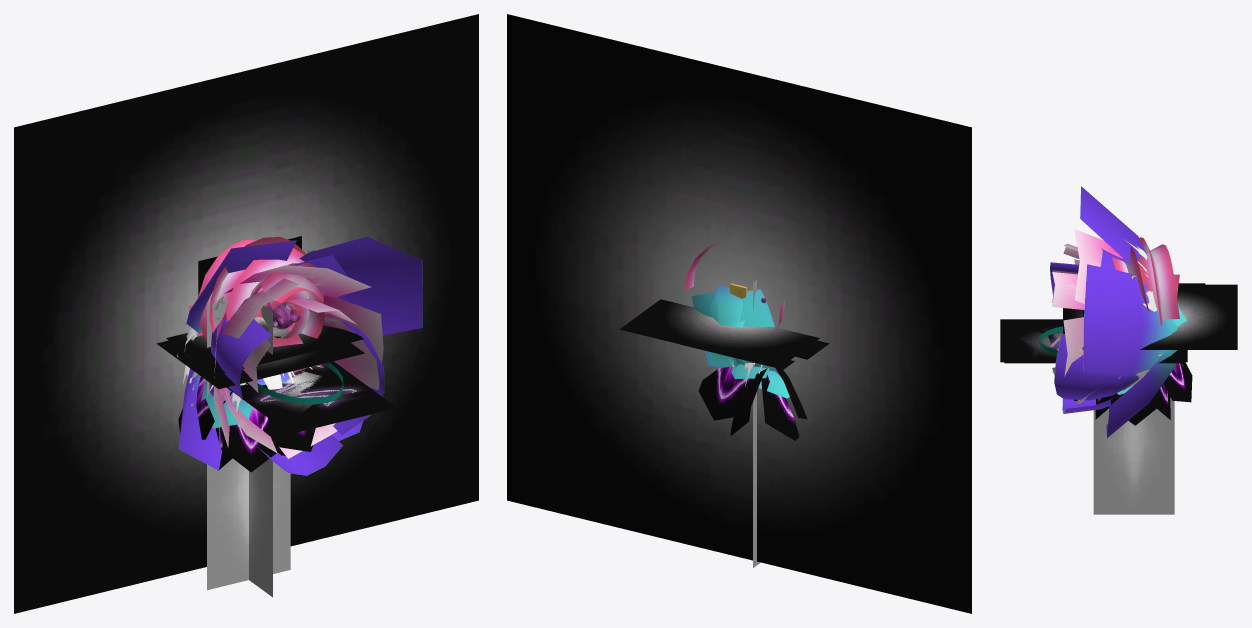
3 views of the same model, side by side, from view 1: azimuth 30°, elevation 25°; view 2: azimuth 150°, elevation 25°; view 3: azimuth 270°, elevation 25° (orthographic). The views are drawn at different scales.
Visible parts, largest first — view 1: object0123_001, "object0134_Editable Poly", object0220_Plane352, object0268_03, object0178_Plane03, "object0230_Editable Poly@#3", object0255_007, object0201_Plane@#1, object0195_Plane@#0, object0189_Plane, object0213_Plane350, "object0291_Editable Poly" (+1 smaller); view 2: object0123_001, object0201_Plane@#1, object0255_007, "object0134_Editable Poly", object0213_Plane350, object0220_Plane352; view 3: "object0134_Editable Poly", object0220_Plane352, object0201_Plane@#1, object0268_03, object0178_Plane03, object0189_Plane, object0255_007, "object0230_Editable Poly@#3", object0275_04.
Part boxes in pixels (box(x1,y1,x2,y2)): object0123_001: box(14, 14, 478, 613); "object0134_Editable Poly": box(178, 236, 422, 475); object0220_Plane352: box(207, 299, 290, 597); object0268_03: box(213, 265, 383, 458); object0178_Plane03: box(189, 237, 324, 373); "object0230_Editable Poly@#3": box(227, 362, 394, 433); object0255_007: box(178, 336, 315, 472); object0201_Plane@#1: box(166, 325, 363, 375); object0195_Plane@#0: box(156, 340, 364, 388); object0189_Plane: box(254, 361, 394, 427); object0213_Plane350: box(200, 372, 291, 428); "object0291_Editable Poly": box(257, 362, 343, 404); object0123_001: box(507, 14, 971, 613); object0201_Plane@#1: box(619, 299, 819, 368); object0255_007: box(698, 366, 807, 440); "object0134_Editable Poly": box(691, 284, 776, 370); object0213_Plane350: box(731, 364, 789, 398); object0220_Plane352: box(753, 280, 760, 567); "object0134_Editable Poly": box(1050, 186, 1186, 437); object0220_Plane352: box(1093, 274, 1174, 514); object0201_Plane@#1: box(1082, 284, 1237, 349); object0268_03: box(1052, 229, 1122, 403); object0178_Plane03: box(1101, 237, 1179, 325); object0189_Plane: box(1004, 321, 1183, 363); object0255_007: box(1074, 362, 1192, 425); "object0230_Editable Poly@#3": box(1000, 319, 1187, 362); object0275_04: box(1118, 239, 1161, 390).
Bounding box in the file's own units: 8.85 × 8.92 × 4.65.
